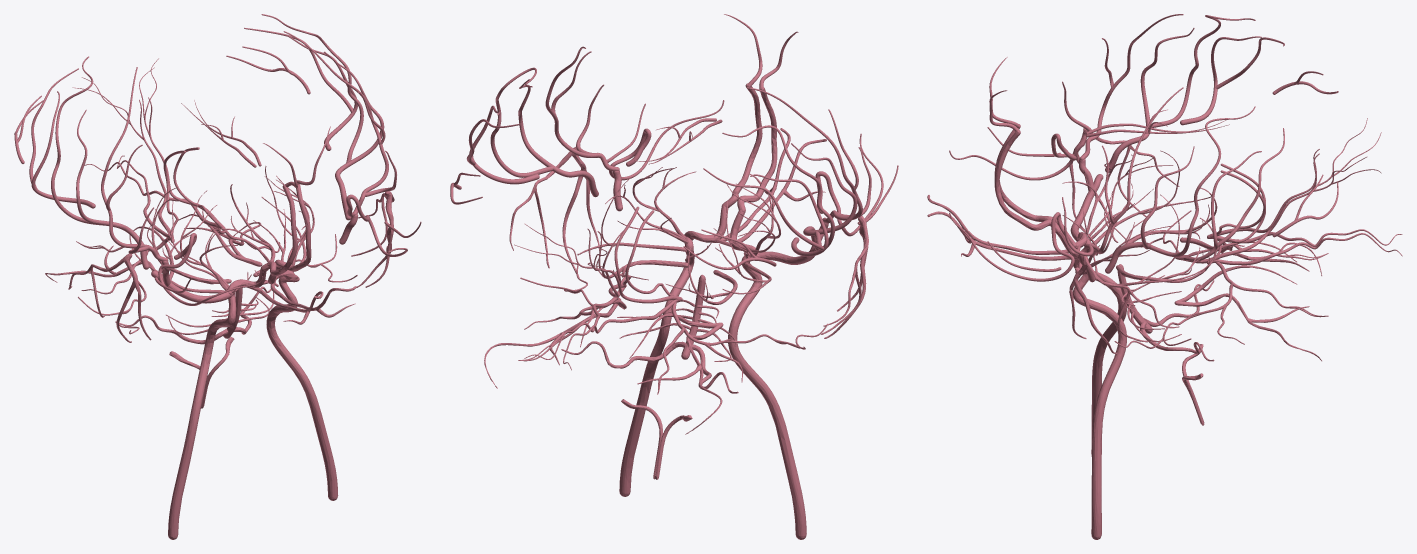
File: cardiovascular-00.glb
The picture shows the model from 3 angles, left to right: view 1: azimuth 30°, elevation 25°; view 2: azimuth 150°, elevation 25°; view 3: azimuth 270°, elevation 25°; orthographic projection. The views are drawn at different scales.
Visible parts, largest first — view 1: FJ1682, FJ1682M, FJ1659, FJ1659M, FJ1664, FJ1664M, FJ1668, FJ1662, FJ1668M, FJ1665, FJ1676, FJ1685 (+13 smaller); view 2: FJ1682, FJ1682M, FJ1659M, FJ1659, FJ1676, FJ1685M, FJ1664M, FJ1676M, FJ1665M, FJ1662M, FJ1668, FJ1668M (+18 smaller); view 3: FJ1682M, FJ1682, FJ1659M, FJ1659, FJ1685M, FJ1676M, FJ1665M, FJ1664, FJ1664M, FJ1683M, FJ1691M, FJ1665 (+13 smaller).
Part boxes in pixels (x1,y1,x2,y2): FJ1682: (168, 291, 236, 539); FJ1682M: (266, 275, 338, 500); FJ1659: (68, 254, 151, 342); FJ1659M: (351, 191, 394, 287); FJ1664: (76, 109, 149, 269); FJ1664M: (324, 51, 384, 220); FJ1668: (101, 67, 168, 261); FJ1662: (155, 190, 237, 290); FJ1668M: (283, 31, 388, 215); FJ1665: (51, 56, 103, 225); FJ1676: (261, 184, 297, 276); FJ1685: (158, 233, 263, 305); FJ1682: (728, 253, 806, 539); FJ1682M: (619, 236, 694, 496); FJ1659M: (509, 147, 599, 277); FJ1659: (821, 216, 868, 338); FJ1676: (737, 87, 777, 212); FJ1685M: (609, 100, 724, 180); FJ1664M: (518, 79, 598, 197); FJ1676M: (721, 83, 762, 208); FJ1665M: (490, 67, 553, 177); FJ1662M: (605, 167, 696, 239); FJ1668: (747, 87, 862, 223); FJ1668M: (545, 46, 619, 171); FJ1682M: (1073, 267, 1126, 539); FJ1682: (1073, 234, 1126, 456); FJ1659M: (1069, 256, 1179, 354); FJ1659: (1069, 128, 1179, 242); FJ1685M: (949, 212, 1076, 281); FJ1676M: (994, 130, 1060, 233); FJ1665M: (1149, 106, 1255, 257); FJ1664: (1105, 28, 1194, 172); FJ1664M: (1105, 146, 1194, 273); FJ1683M: (1175, 293, 1321, 361); FJ1691M: (1209, 153, 1381, 260); FJ1665: (1151, 15, 1255, 127).
Size of the model in its own units: 0.1447 by 0.1865 by 0.1789.
